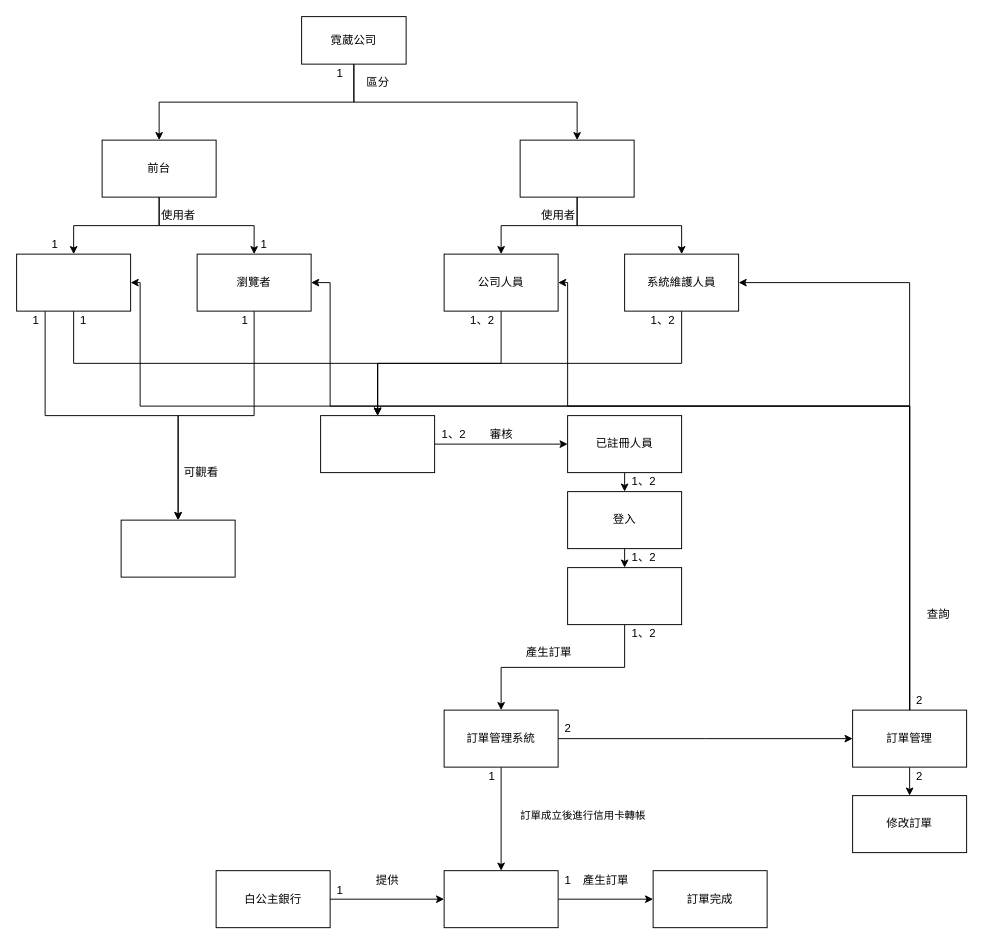
This 983x944 diagram has some shape labels left out. Here are the shapes that lost their labels. From the top down, the box of each, then its label:
(519, 139, 634, 197): 後台
(16, 253, 131, 311): 客戶
(320, 415, 435, 473): 註冊登記
(120, 519, 235, 577): 產品分類頁面
(567, 567, 682, 625): 購物車
(443, 870, 558, 928): 驗證金流系統
